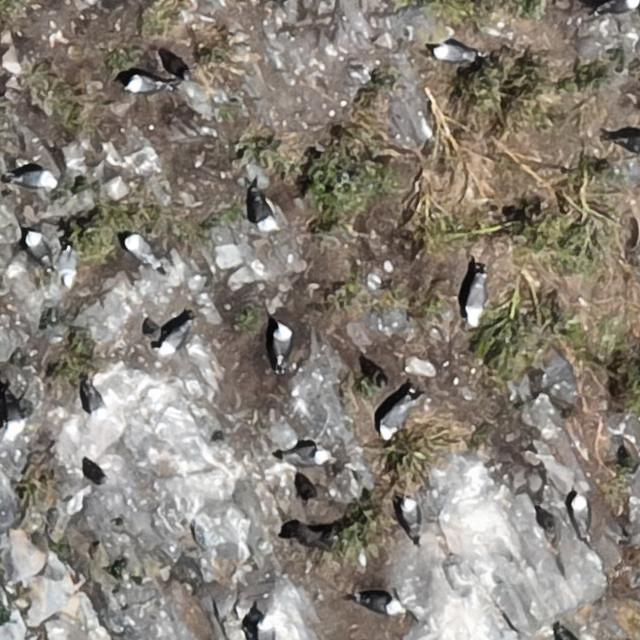umineko: (380, 391, 416, 444), (248, 187, 278, 231), (5, 382, 24, 437), (12, 170, 57, 190), (359, 593, 400, 614), (284, 446, 327, 465), (61, 246, 79, 290), (124, 234, 152, 261), (272, 325, 291, 362), (160, 327, 186, 354), (466, 281, 484, 320), (573, 497, 590, 534), (82, 461, 107, 486), (432, 46, 468, 63), (402, 497, 419, 533), (26, 232, 47, 261), (127, 78, 159, 94), (88, 390, 105, 418), (602, 0, 637, 13), (618, 134, 640, 153)
